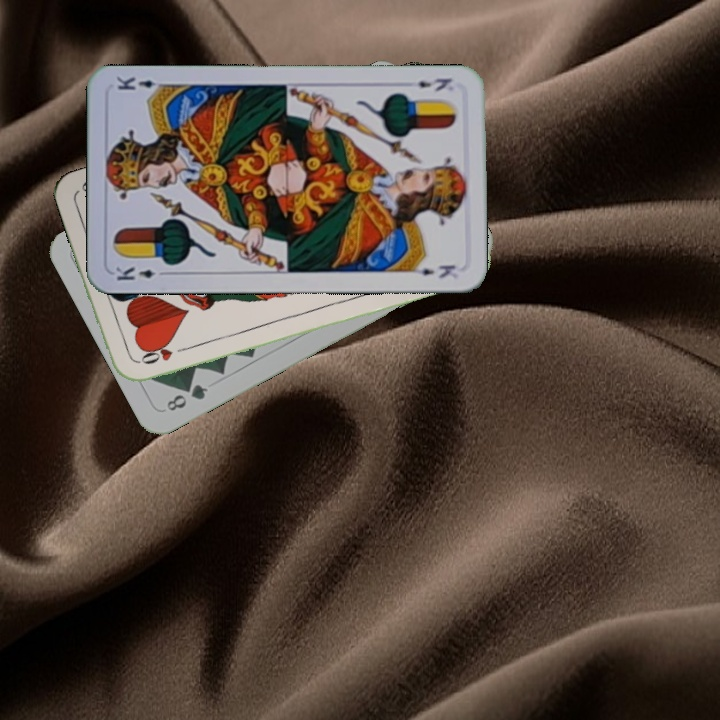EK: (112, 263, 171, 283), (413, 74, 454, 94)
G8: (162, 380, 211, 414)
HO: (133, 342, 192, 367)
